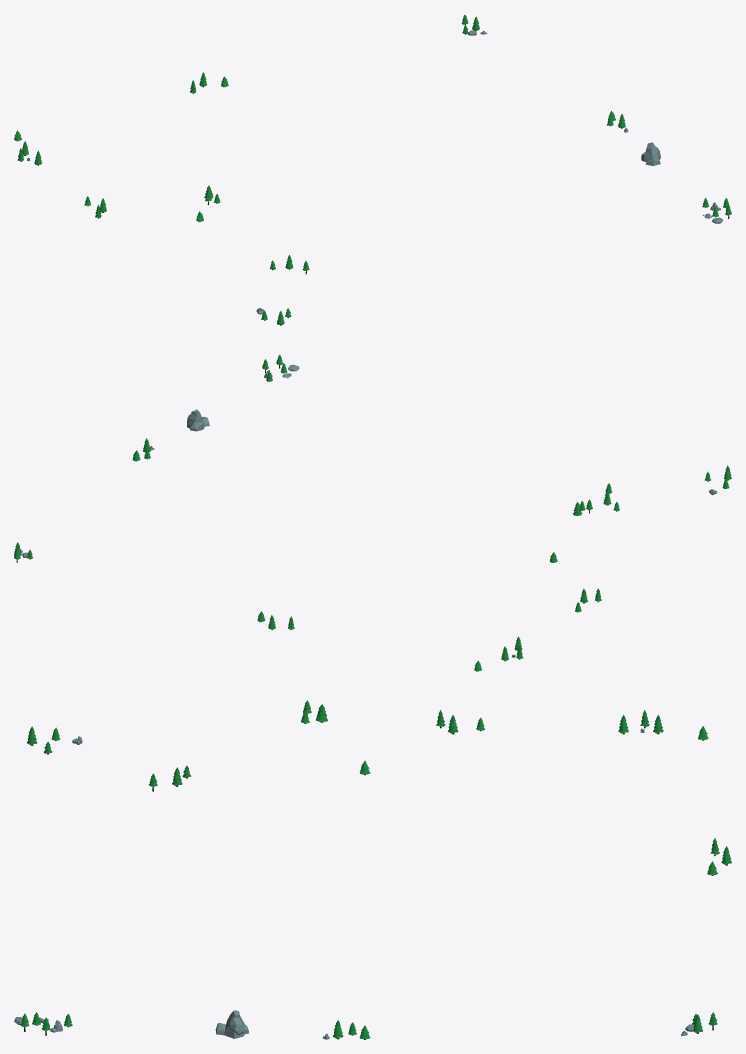
Rendered from treesAndRocks.glb.
3 views of the same model, one above another, from view 1: azimuth 30°, elevation 25°; view 2: azimuth 150°, elevation 25°; view 3: azimuth 270°, elevation 25° (orthographic). The views are drawn at different scales.
Parts seen in each view (by area): view 1: no part large enough to name; view 2: no part large enough to name; view 3: stone_with_moss_7.002.
Boxes of the visible parts, x1,y1,x2,y2 form: stone_with_moss_7.002: (215,1010,248,1038).
Bounding box in the file's own units: 2002 × 197 × 1924.
